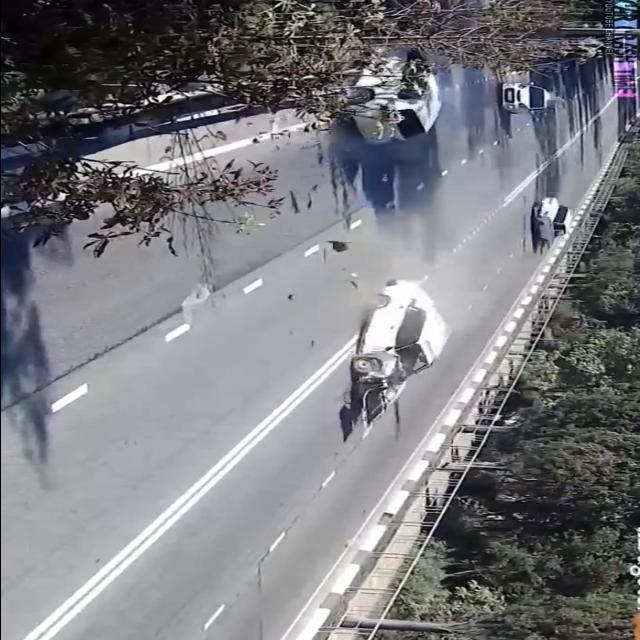accident: (320, 268, 460, 432), (316, 0, 447, 153)
